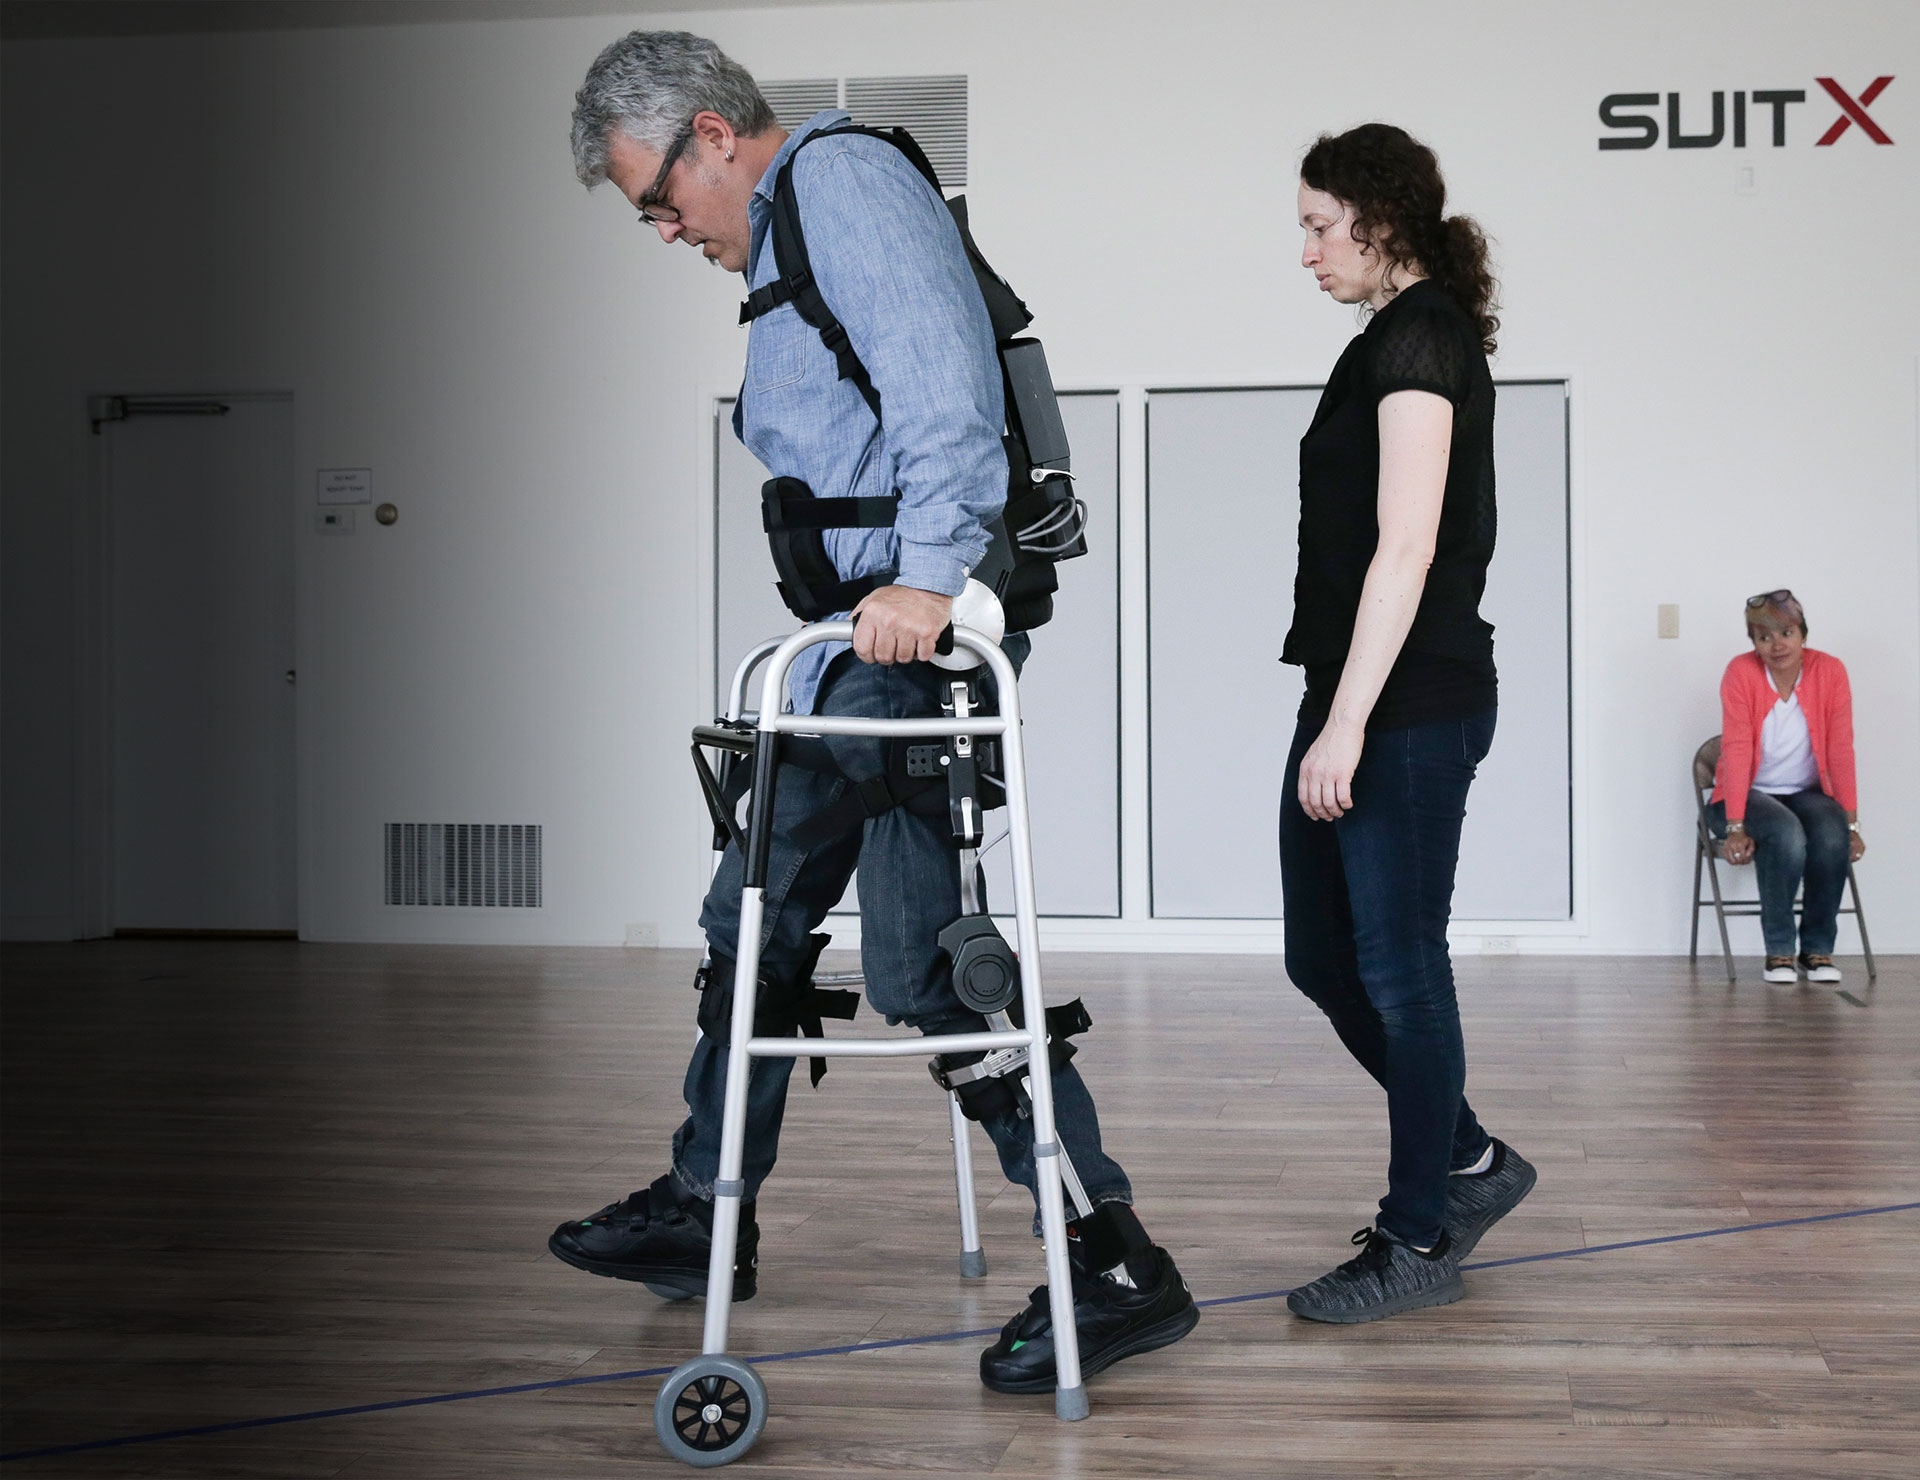feet: (538, 1040, 1210, 1394), (1287, 1062, 1561, 1345), (1754, 878, 1853, 990)
